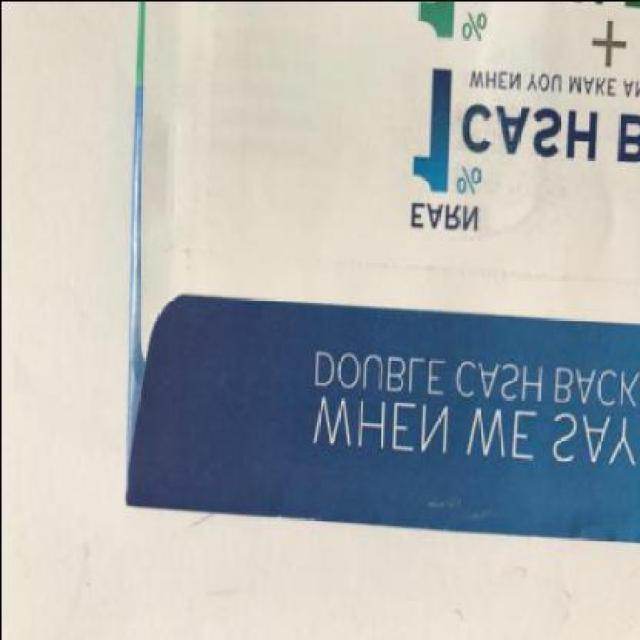PAPER: (122, 2, 640, 543)
